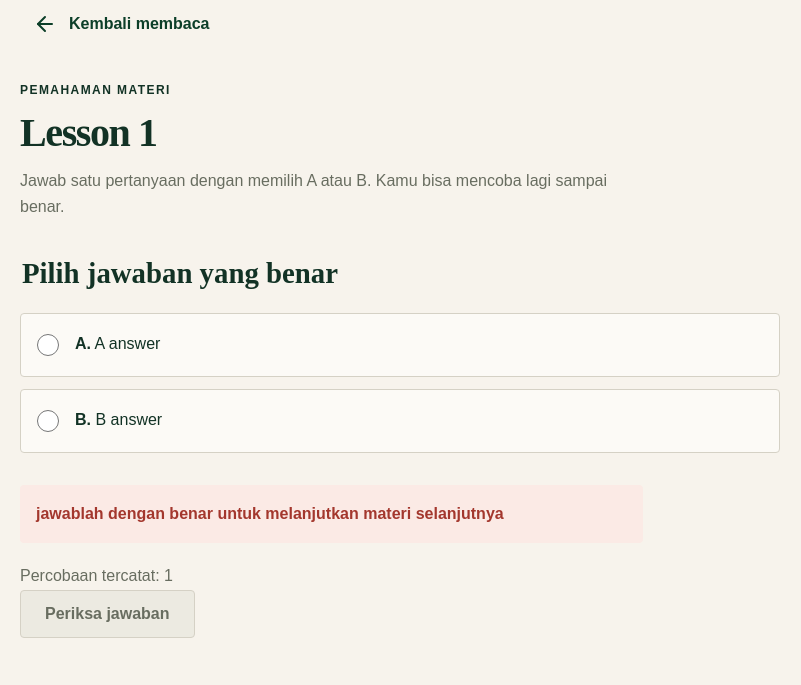
Test: lost correct acknowledgement reconciles mastered GET and retries failed student progress before continuation
Later steps or results of the test are not shown.
Expected: the text "Pilih jawaban yang benar" is shown, [20,253,340,293]
Click the radio button labelled "B. B answer" at (48, 421), box [37,410,59,432]
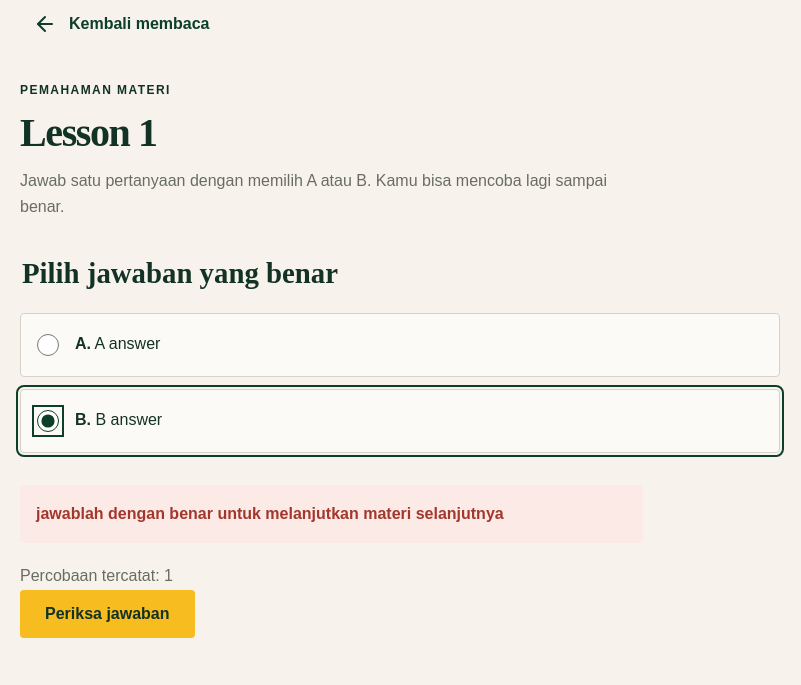
Click the button "Periksa jawaban" at (107, 614), box [20,590,194,638]
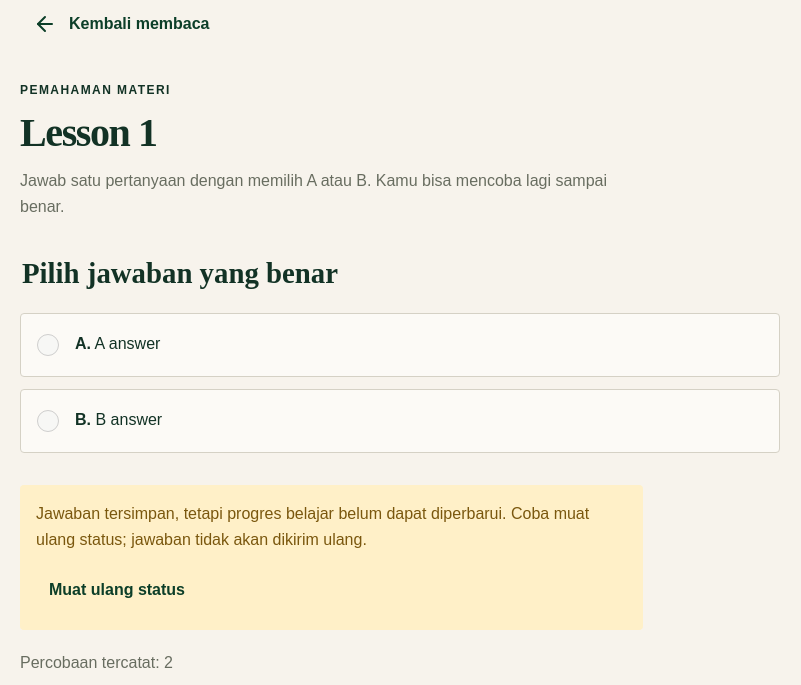
Expected: the text "Jawaban benar. Materi berikutnya sudah terbuka." is not shown
Expected: the button "Muat ulang status" is shown
Click the button "Muat ulang status" at (117, 590), box [36,566,198,614]
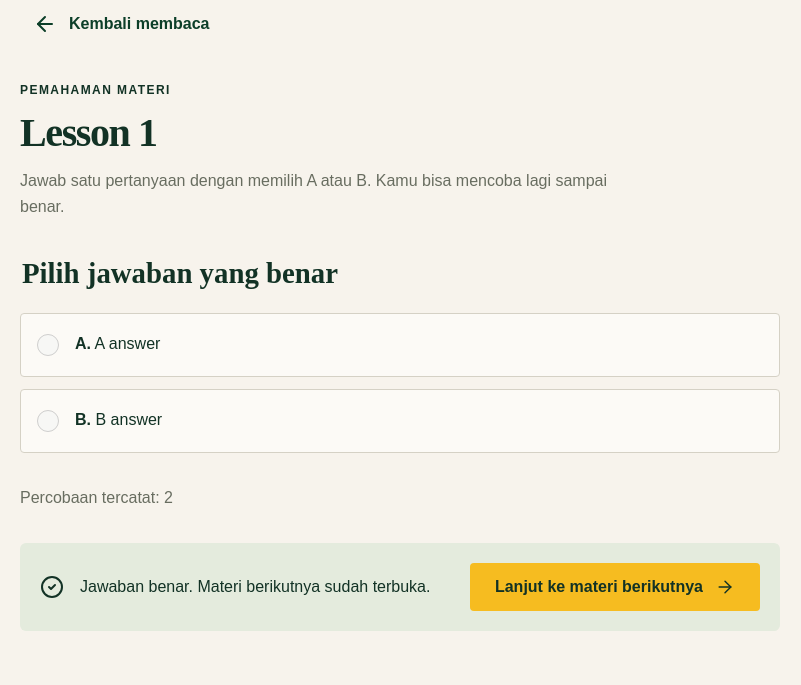
Expected: the text "Jawaban benar. Materi berikutnya sudah terbuka." is shown, [80,574,454,600]
